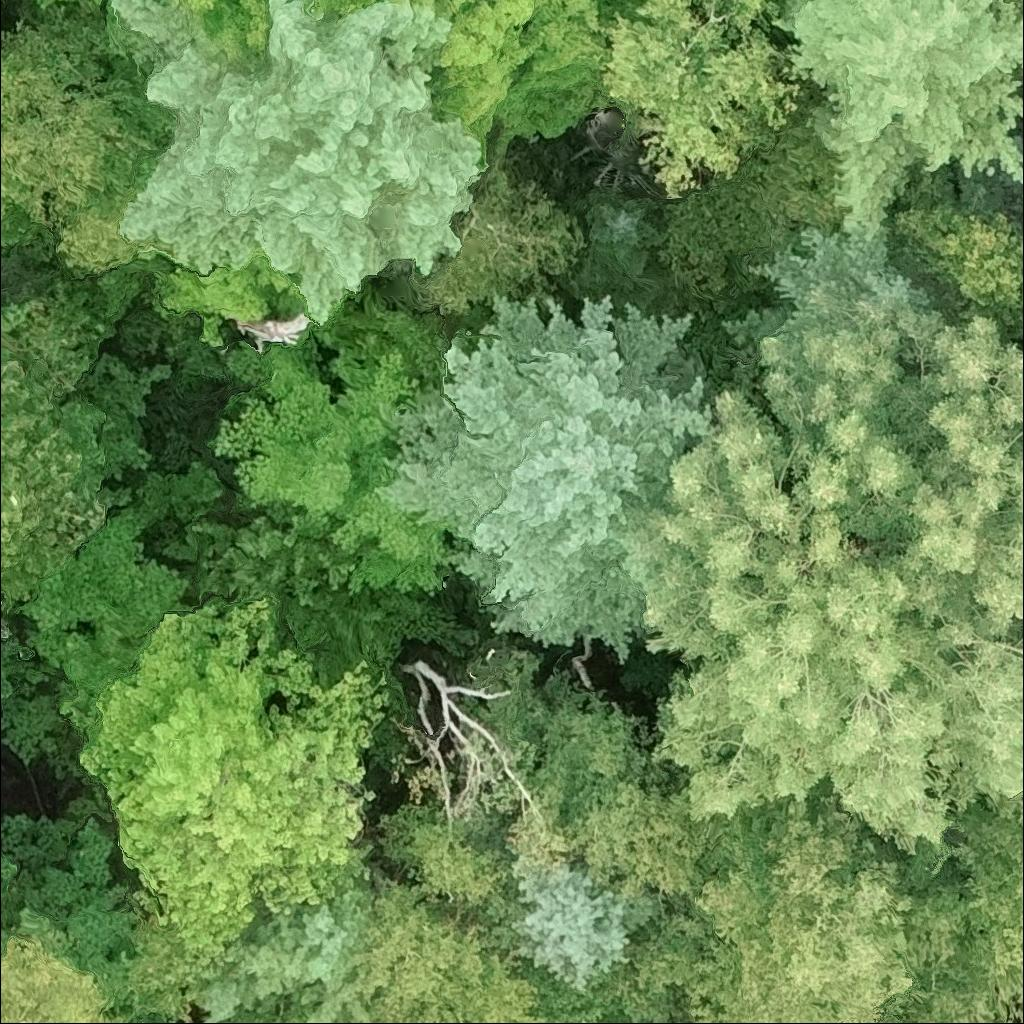crown: (632, 305, 1023, 861), (372, 287, 723, 671), (108, 0, 491, 323), (75, 589, 394, 957), (378, 650, 716, 944), (682, 790, 973, 1023), (206, 334, 454, 598), (769, 0, 1023, 242), (591, 0, 807, 207), (163, 515, 427, 684), (0, 8, 172, 266), (318, 0, 604, 141), (657, 89, 836, 306), (715, 222, 950, 370), (345, 869, 560, 1023), (877, 805, 1023, 1023), (0, 342, 109, 599), (10, 499, 194, 646), (879, 162, 1023, 344), (191, 879, 372, 1023), (500, 863, 665, 997), (542, 906, 706, 1023), (23, 815, 138, 969), (25, 604, 143, 743), (567, 175, 672, 311), (152, 257, 305, 349), (0, 931, 129, 1023), (185, 0, 272, 76), (953, 163, 1023, 218), (0, 297, 42, 336), (0, 847, 22, 921), (36, 0, 82, 10), (91, 0, 110, 11)
